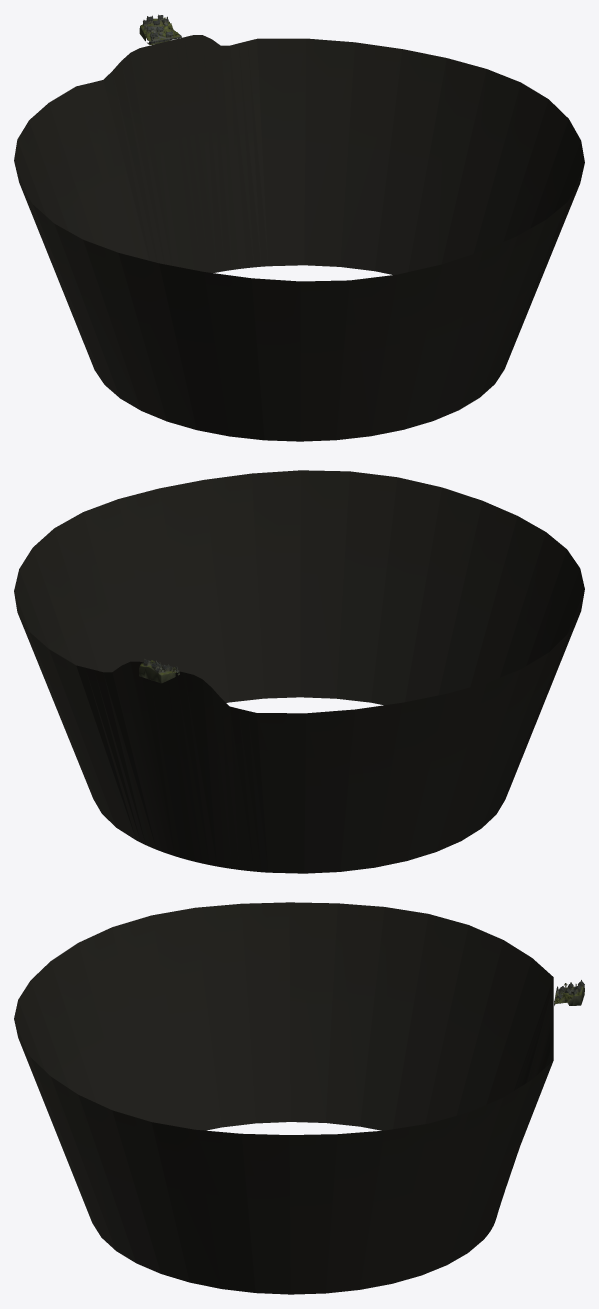
File: village.obj
The picture shows the model from 3 angles, top to bottom: view 1: azimuth 30°, elevation 25°; view 2: azimuth 150°, elevation 25°; view 3: azimuth 270°, elevation 25°; orthographic projection. The views are drawn at different scales.
Parts seen in each view (by area): view 1: village; view 2: village; view 3: village.
Boxes of the visible parts, box(x1,y1,x2,y2) form: village: box(14, 14, 584, 441); village: box(14, 470, 584, 873); village: box(14, 902, 584, 1294).
Bounding box in the file's own units: 547 × 244 × 559.
1 material, 1 textured.
